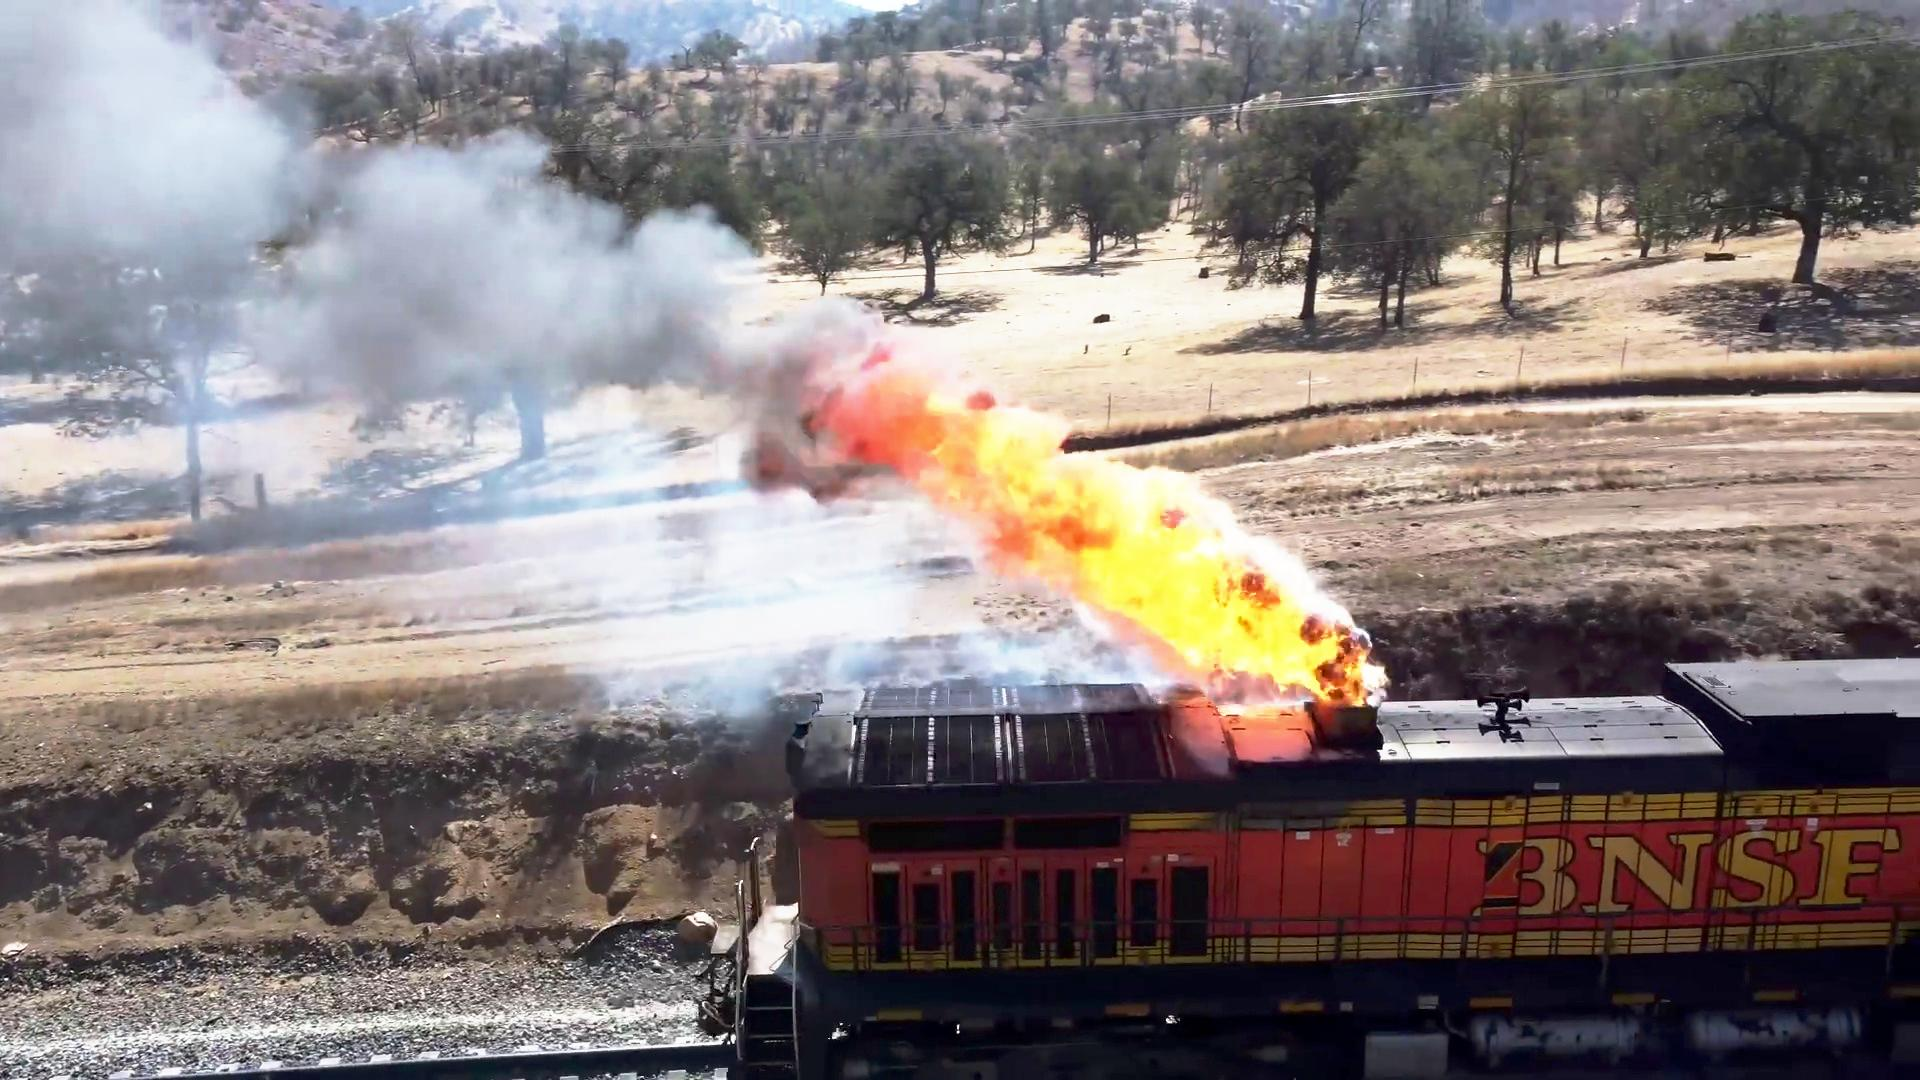fire: (836, 373, 1079, 559), (1067, 483, 1308, 649)
smoke: (0, 0, 258, 373), (290, 113, 597, 425), (641, 203, 906, 472)
